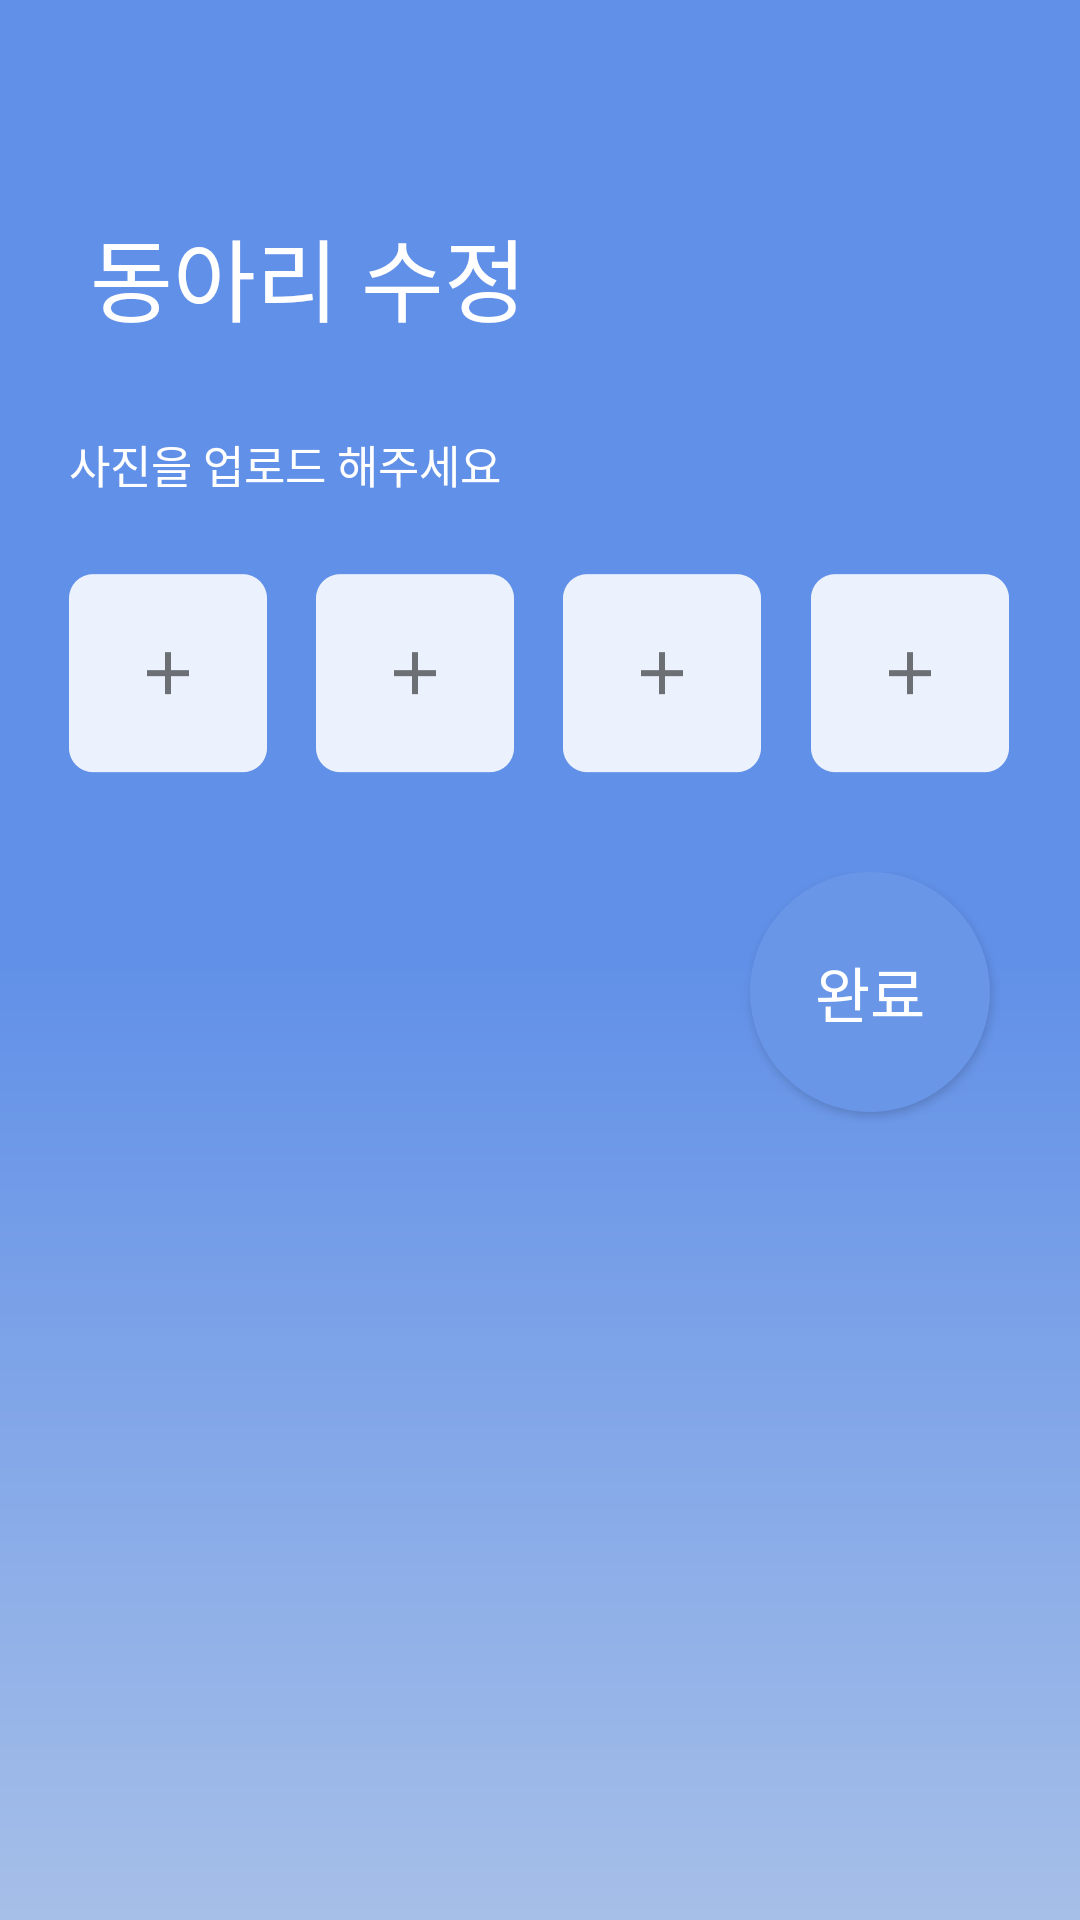

Icon bounding boxes for this 1080px×1920px phone screenshot, format bbox=[x1, y1, x2, y2]:
photoplus: bbox=[69, 574, 267, 772], bbox=[316, 574, 514, 772], bbox=[563, 574, 761, 772], bbox=[811, 574, 1009, 772]
